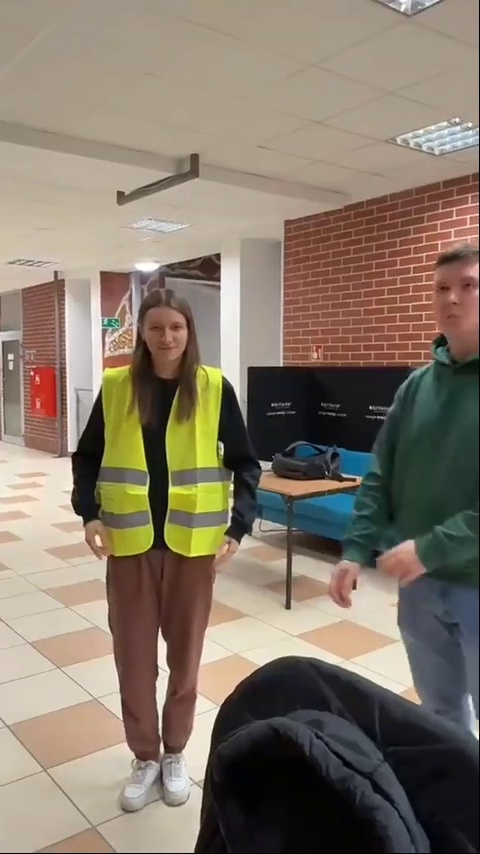no vest: (344, 246, 480, 740)
vest: (77, 288, 262, 808)
